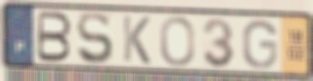3: (200, 16, 236, 70)
B: (35, 10, 74, 64)
G: (240, 18, 279, 71)
K: (121, 14, 153, 66)
O: (158, 15, 196, 68)
S: (75, 10, 116, 67)
